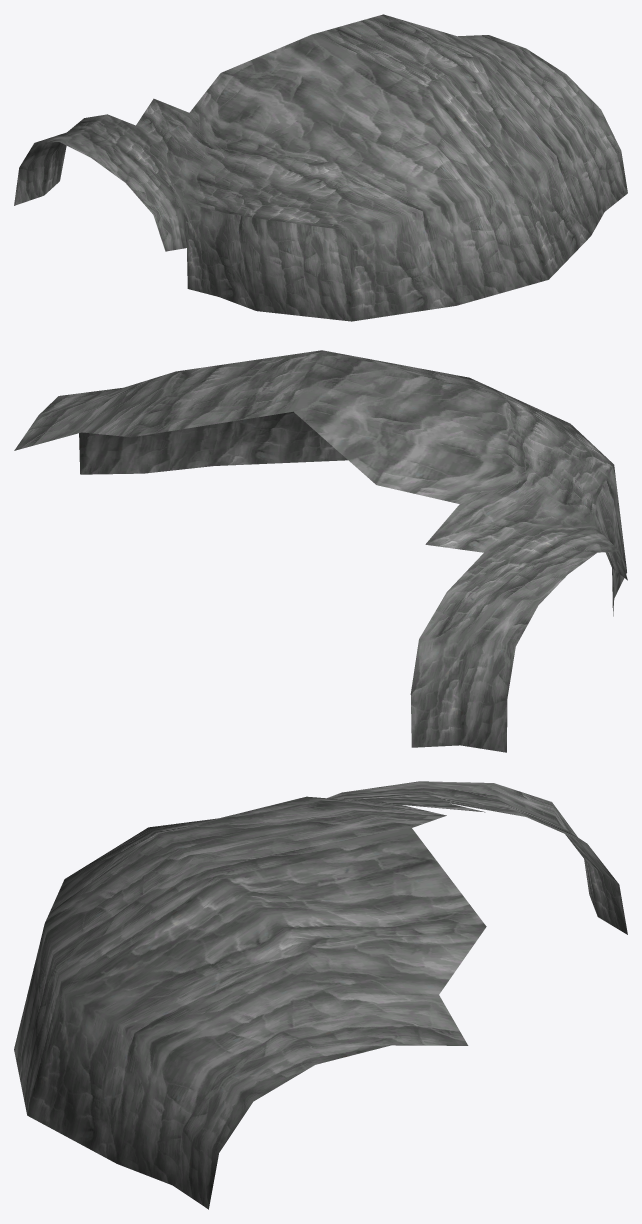
File: SWORDLIGHT20_PS-AREA02_05.fbx
3 views of the same model, one above another, from view 1: azimuth 30°, elevation 25°; view 2: azimuth 150°, elevation 25°; view 3: azimuth 270°, elevation 25° (orthographic). The views are drawn at different scales.
Parts seen in each view (by area): view 1: SWORDLIGHT20_PS-AREA02_05; view 2: SWORDLIGHT20_PS-AREA02_05; view 3: SWORDLIGHT20_PS-AREA02_05.
Part boxes in pixels (x1,y1,x2,y2): SWORDLIGHT20_PS-AREA02_05: [14, 14, 627, 321]; SWORDLIGHT20_PS-AREA02_05: [14, 350, 627, 752]; SWORDLIGHT20_PS-AREA02_05: [14, 781, 627, 1209].
Size of the model in its own units: 151264 by 50282 by 124866.
1 material, 1 textured.
